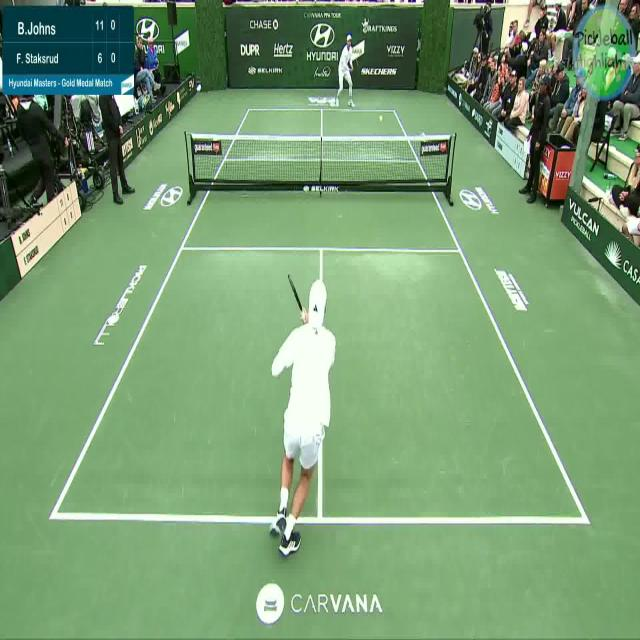ball: (378, 110, 385, 125)
